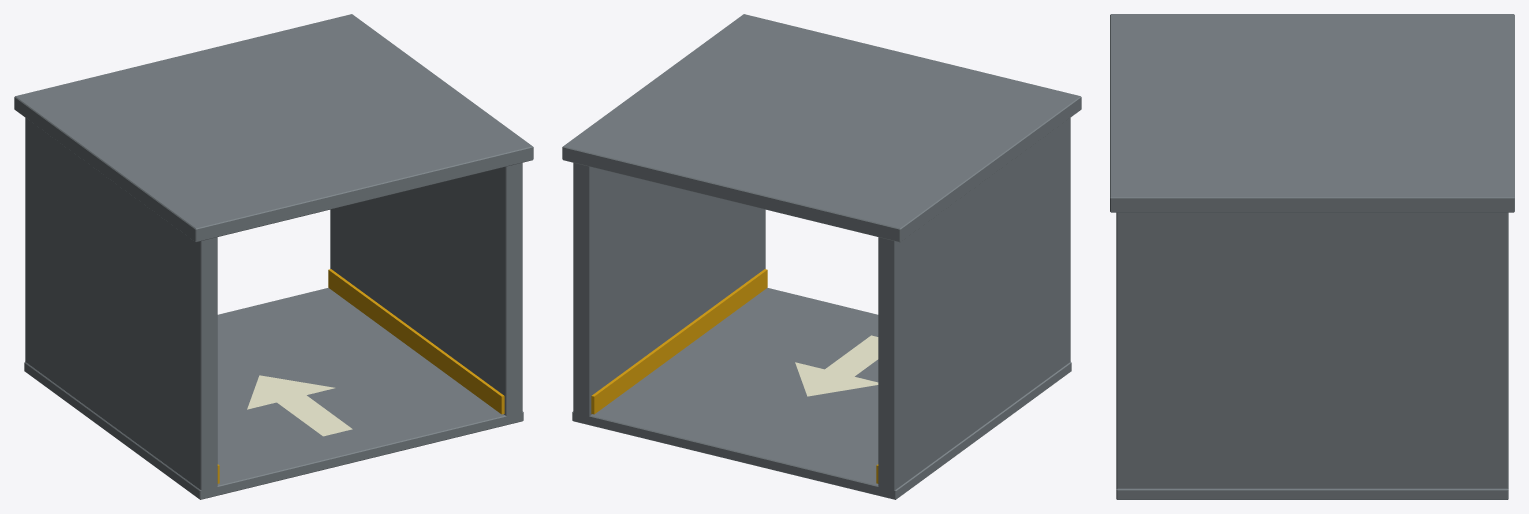
File: ParkingEntryTunnel.fbx
3 renders of one model, left to right at view 1: azimuth 30°, elevation 25°; view 2: azimuth 150°, elevation 25°; view 3: azimuth 270°, elevation 25°, orthographic. The views are drawn at different scales.
Parts seen in each view (by area): view 1: ParkingEntryTunnel; view 2: ParkingEntryTunnel; view 3: ParkingEntryTunnel.
Boxes of the visible parts, bbox=[...] form: ParkingEntryTunnel: bbox=[14, 14, 533, 499]; ParkingEntryTunnel: bbox=[562, 14, 1081, 499]; ParkingEntryTunnel: bbox=[1110, 14, 1514, 499].
Bounding box in the file's own units: 355 × 276 × 330.
Materials: 1 (1 with a texture image).
